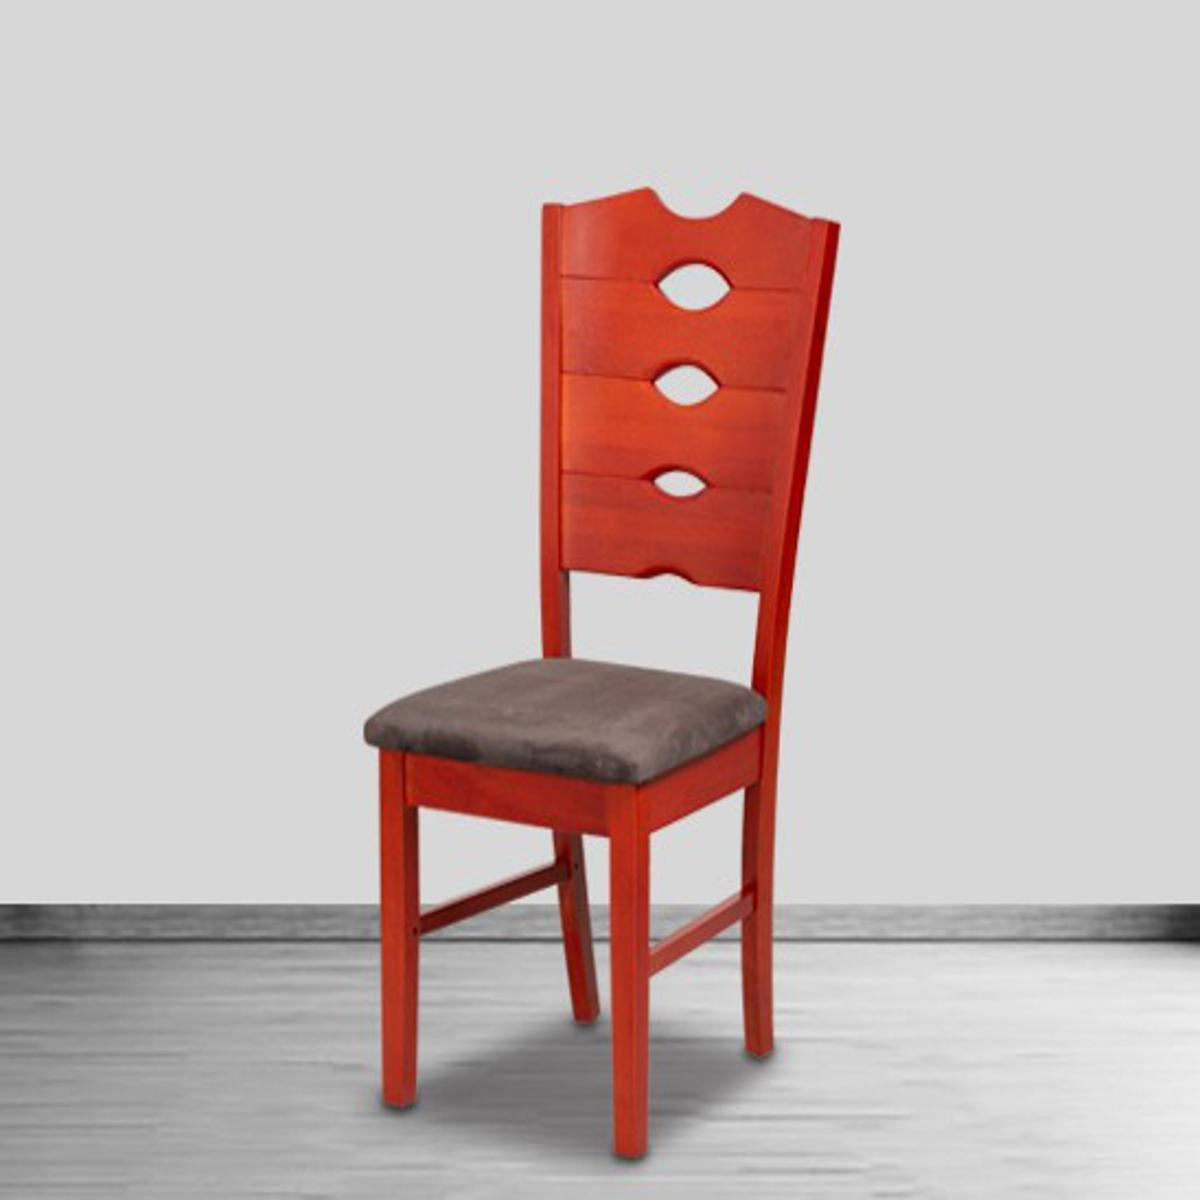Chair: (365, 182, 841, 1155)
